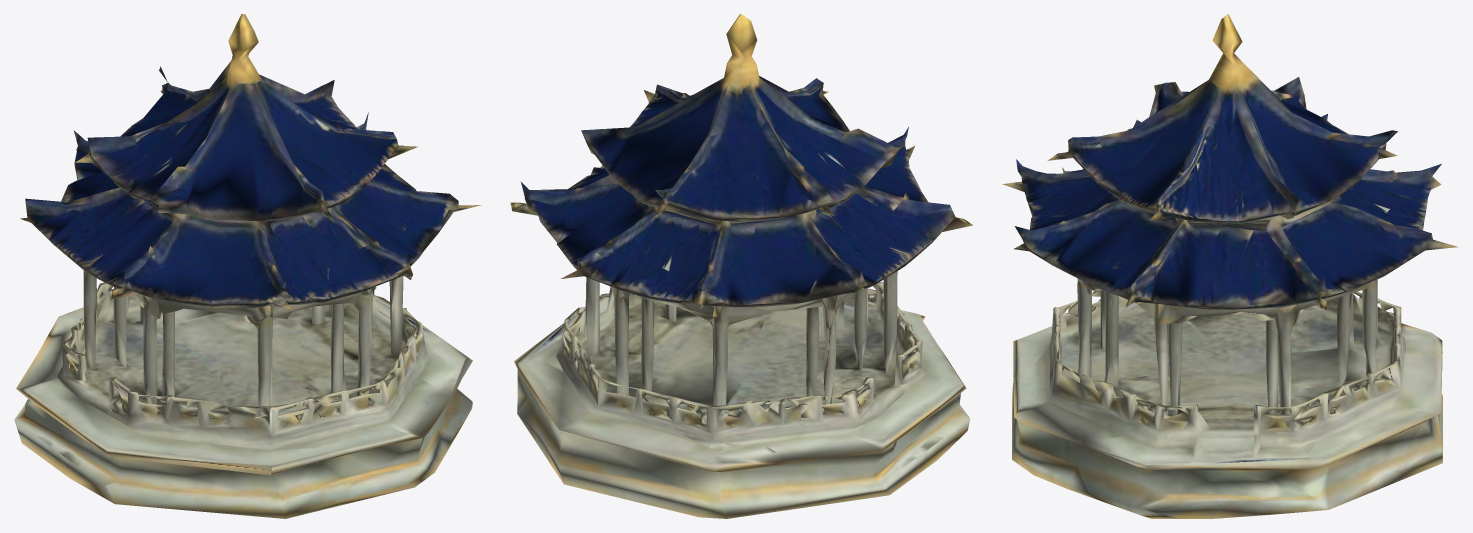
Rendered from pavilion.lod1.glb.
3 renders of one model, left to right at view 1: azimuth 30°, elevation 25°; view 2: azimuth 150°, elevation 25°; view 3: azimuth 270°, elevation 25°, orthographic.
Visible parts, largest first — view 1: tripo_node_0d2f6c87-615e-40da-9e5f-ea30045bdf91; view 2: tripo_node_0d2f6c87-615e-40da-9e5f-ea30045bdf91; view 3: tripo_node_0d2f6c87-615e-40da-9e5f-ea30045bdf91.
Part boxes in pixels (bbox=[...]): tripo_node_0d2f6c87-615e-40da-9e5f-ea30045bdf91: bbox=[14, 14, 481, 518]; tripo_node_0d2f6c87-615e-40da-9e5f-ea30045bdf91: bbox=[510, 14, 972, 518]; tripo_node_0d2f6c87-615e-40da-9e5f-ea30045bdf91: bbox=[1002, 14, 1457, 518].
Size of the model in its own units: 0.9181 by 0.9683 by 0.9687.
Materials: 1 (1 with a texture image).
